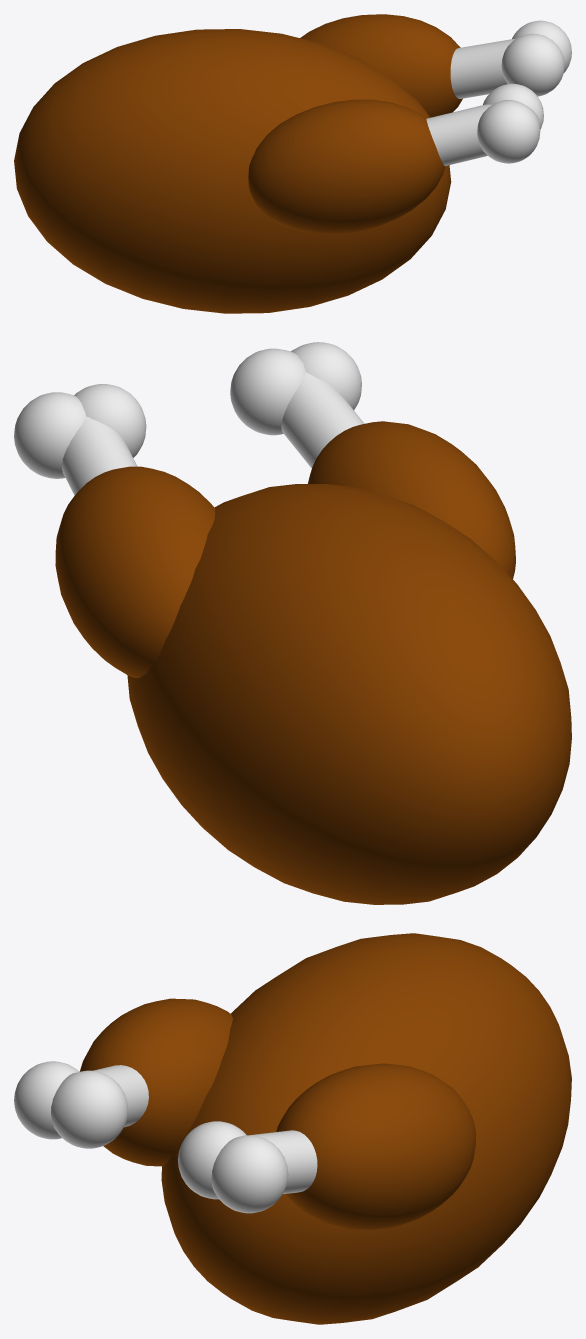
The model's file is Tüm Tavuk.fbx.
3 renders of one model, top to bottom at view 1: azimuth 30°, elevation 25°; view 2: azimuth 150°, elevation 25°; view 3: azimuth 270°, elevation 25°, orthographic. The views are drawn at different scales.
Visible parts, largest first — view 1: Sphere, Sphere.002, Sphere.001, Sphere.003, Cylinder, Cylinder.001; view 2: Sphere, Sphere.001, Sphere.003, Sphere.002, Cylinder.001, Cylinder; view 3: Sphere, Sphere.001, Sphere.003, Sphere.002, Cylinder, Cylinder.001.
Part boxes in pixels (bbox=[...]): Sphere: bbox=[14, 29, 451, 313]; Sphere.002: bbox=[248, 99, 444, 234]; Sphere.001: bbox=[300, 14, 462, 117]; Sphere.003: bbox=[477, 20, 571, 163]; Cylinder: bbox=[450, 38, 515, 98]; Cylinder.001: bbox=[426, 104, 492, 165]; Sphere: bbox=[127, 484, 571, 904]; Sphere.001: bbox=[55, 466, 215, 677]; Sphere.003: bbox=[14, 342, 361, 478]; Sphere.002: bbox=[308, 421, 515, 578]; Cylinder.001: bbox=[281, 372, 364, 468]; Cylinder: bbox=[62, 416, 137, 495]; Sphere: bbox=[161, 933, 571, 1324]; Sphere.001: bbox=[276, 1063, 475, 1230]; Sphere.003: bbox=[14, 1061, 288, 1213]; Sphere.002: bbox=[79, 998, 232, 1166]; Cylinder: bbox=[250, 1130, 317, 1194]; Cylinder.001: bbox=[92, 1065, 148, 1127].
Bounding box in the file's own units: 425 × 229 × 360.
